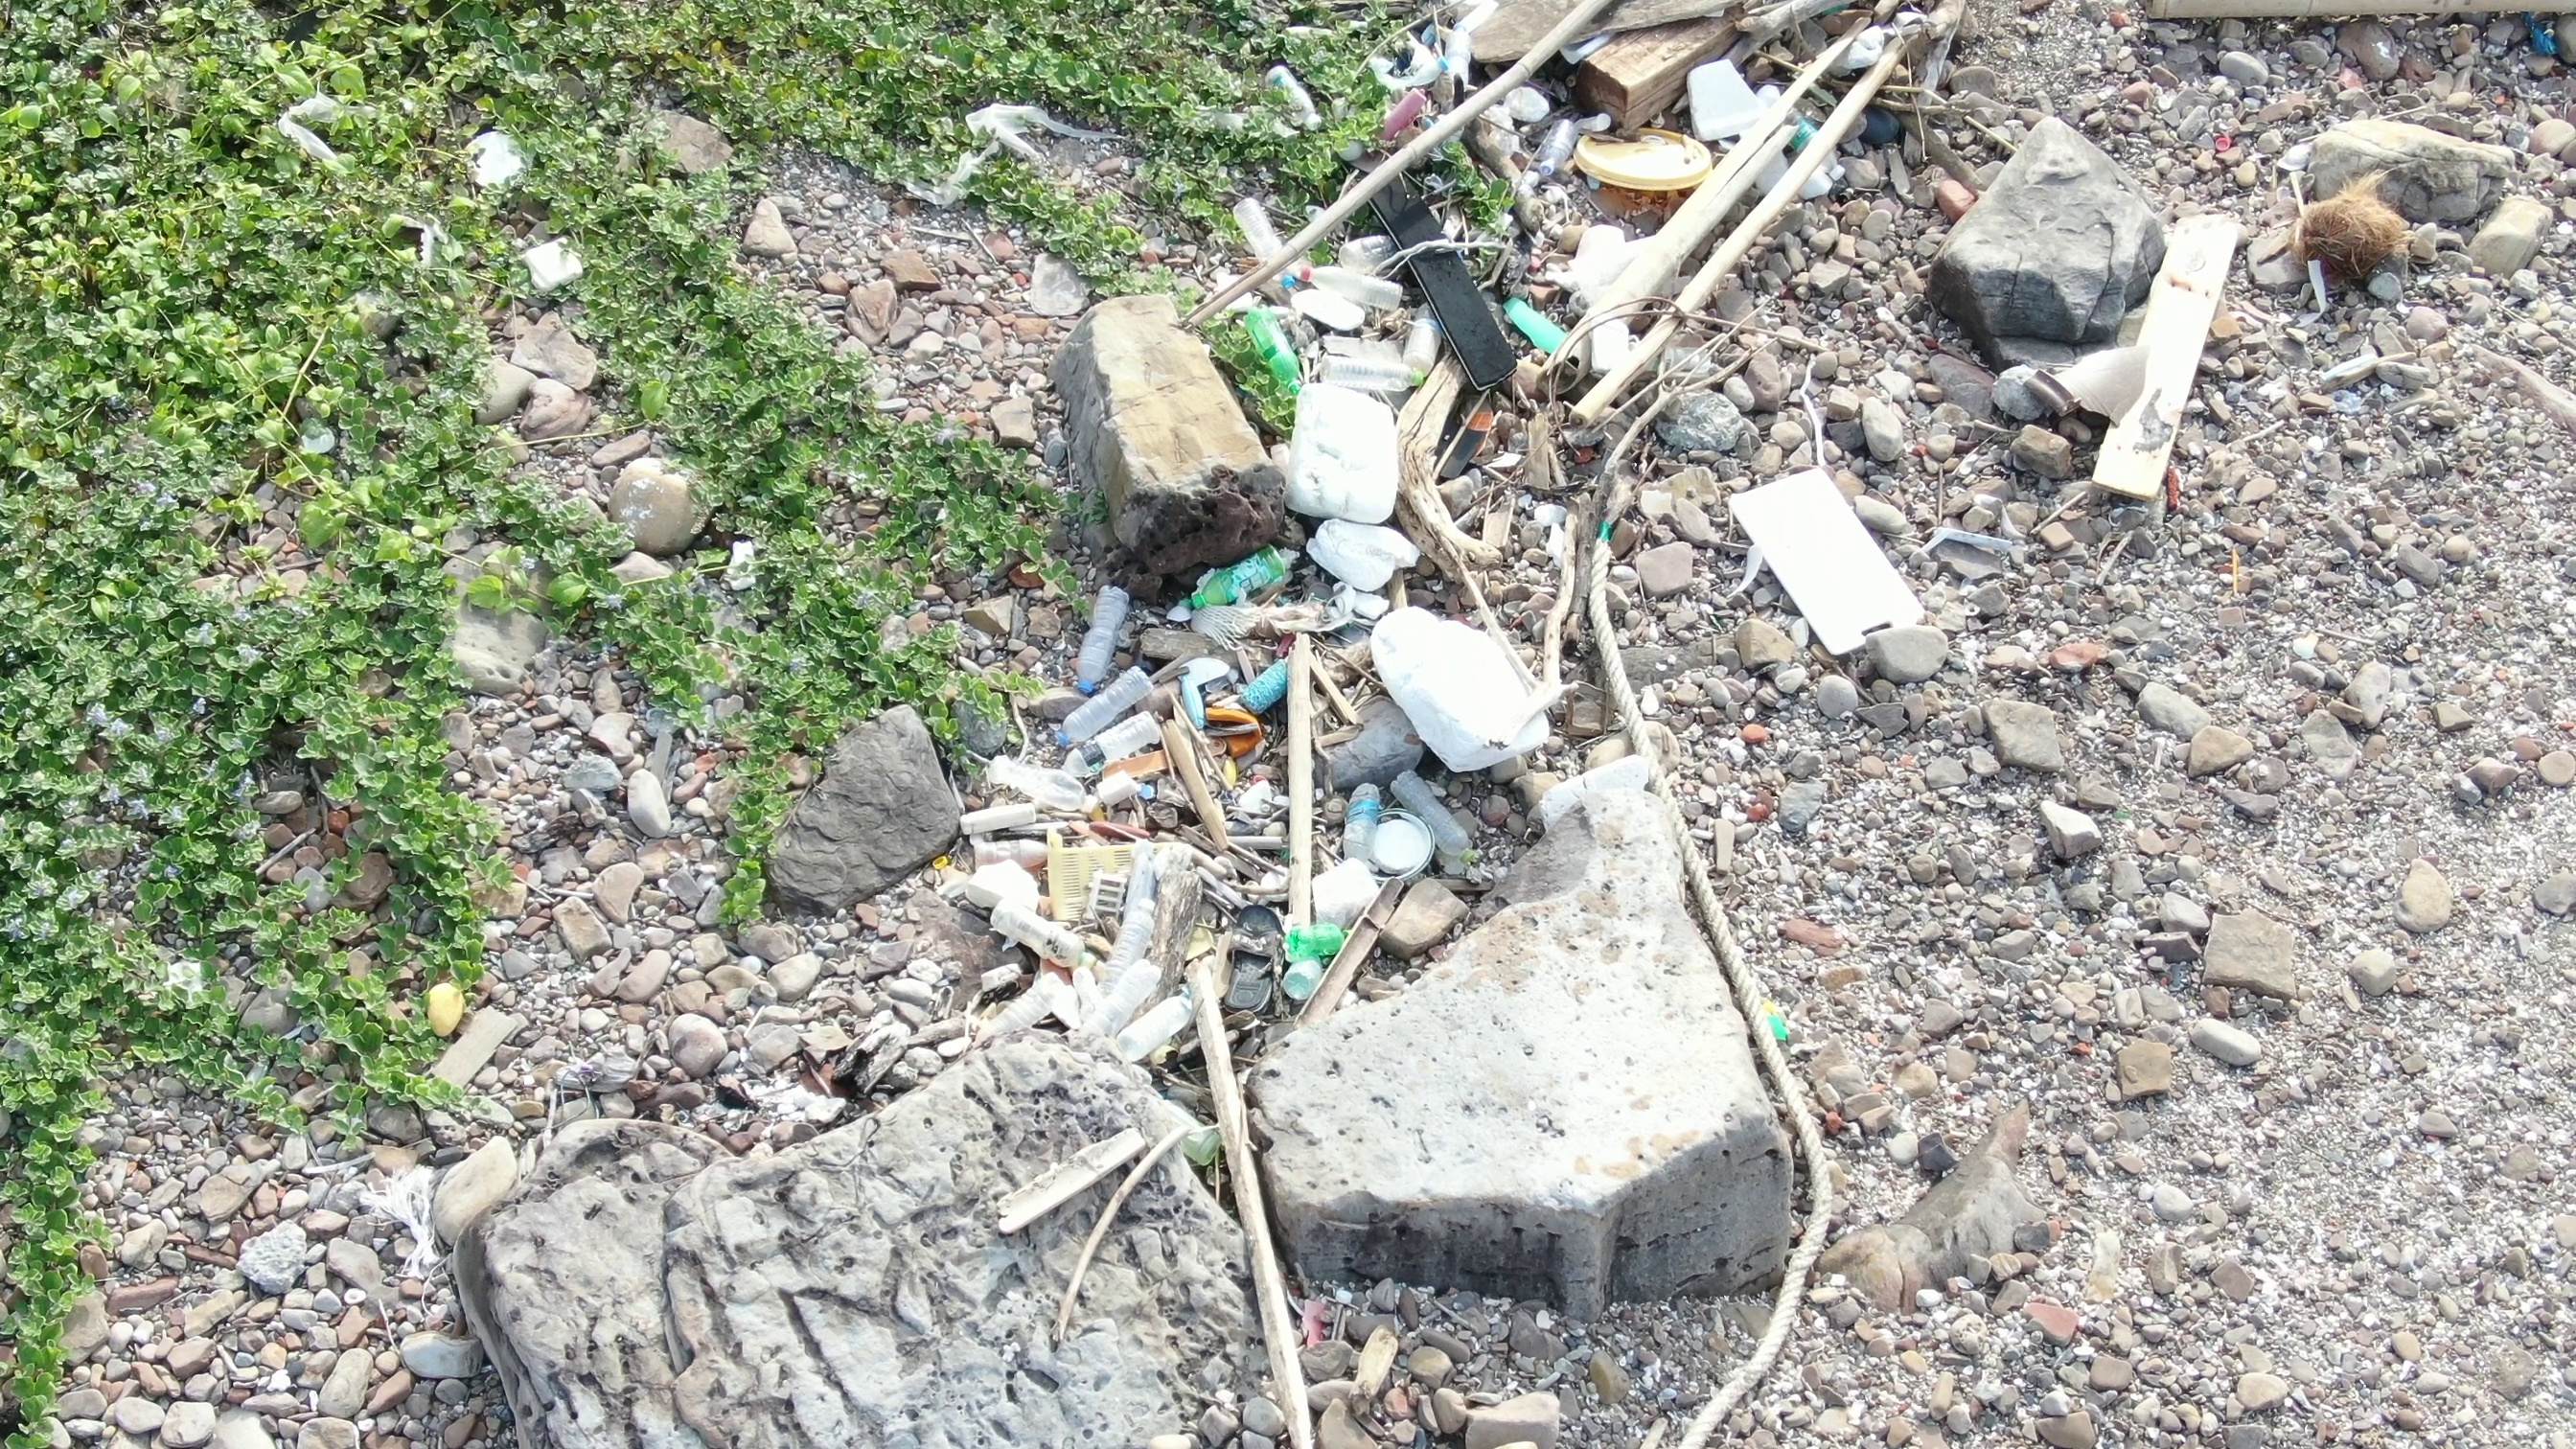bottle: (1047, 656, 1171, 750), (1752, 74, 1849, 184), (1387, 754, 1477, 867), (1274, 249, 1417, 315), (977, 885, 1085, 971), (1191, 536, 1293, 619), (1235, 303, 1309, 409), (1072, 582, 1143, 688), (1315, 336, 1433, 396), (1233, 639, 1315, 722), (1251, 60, 1329, 143), (1355, 37, 1460, 90), (1226, 193, 1290, 271), (1348, 766, 1387, 862), (1532, 111, 1576, 193), (1284, 924, 1350, 961)
garbage: (982, 527, 1568, 1049), (1200, 27, 1775, 525)
